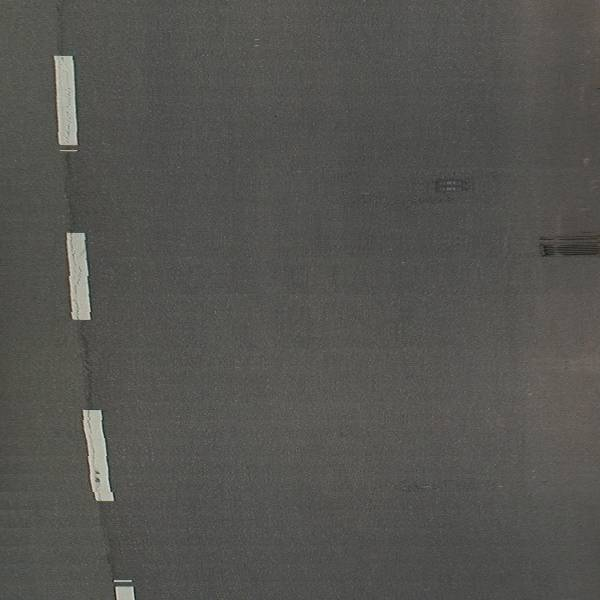road_damage: (56, 151, 83, 231)
